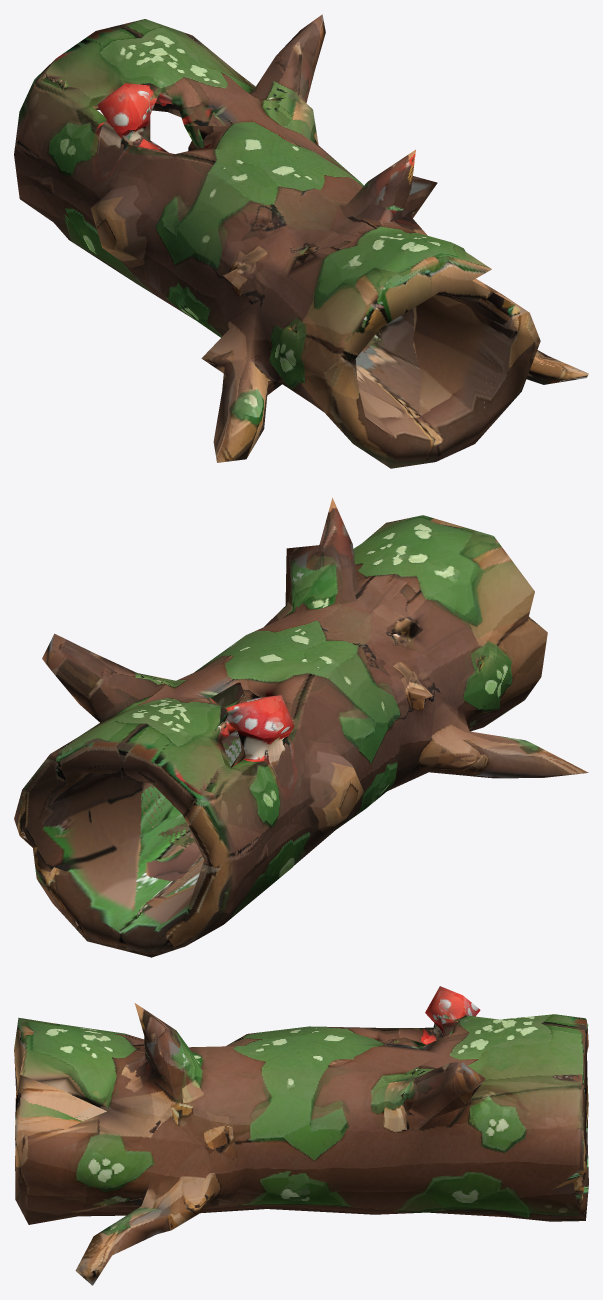
The model's file is JungleLog.fbx.
The picture shows the model from 3 angles, top to bottom: view 1: azimuth 30°, elevation 25°; view 2: azimuth 150°, elevation 25°; view 3: azimuth 270°, elevation 25°; orthographic projection. The views are drawn at different scales.
Visible parts, largest first — view 1: input; view 2: input; view 3: input.
Boxes of the visible parts, box(x1,y1,x2,y2) form: input: box(14, 14, 588, 468); input: box(14, 497, 588, 957); input: box(14, 986, 588, 1285).
Bounding box in the file's own units: 67.2 × 44.83 × 101.
1 material, 1 textured.
